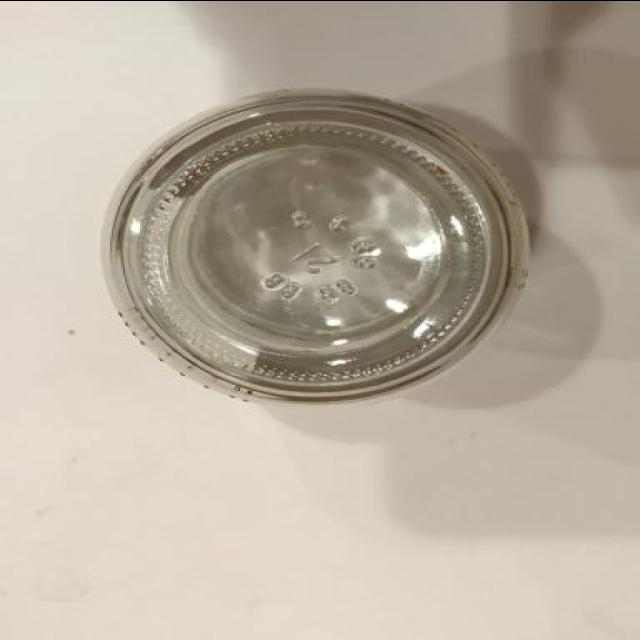Glass Bottle: (97, 88, 535, 406)
